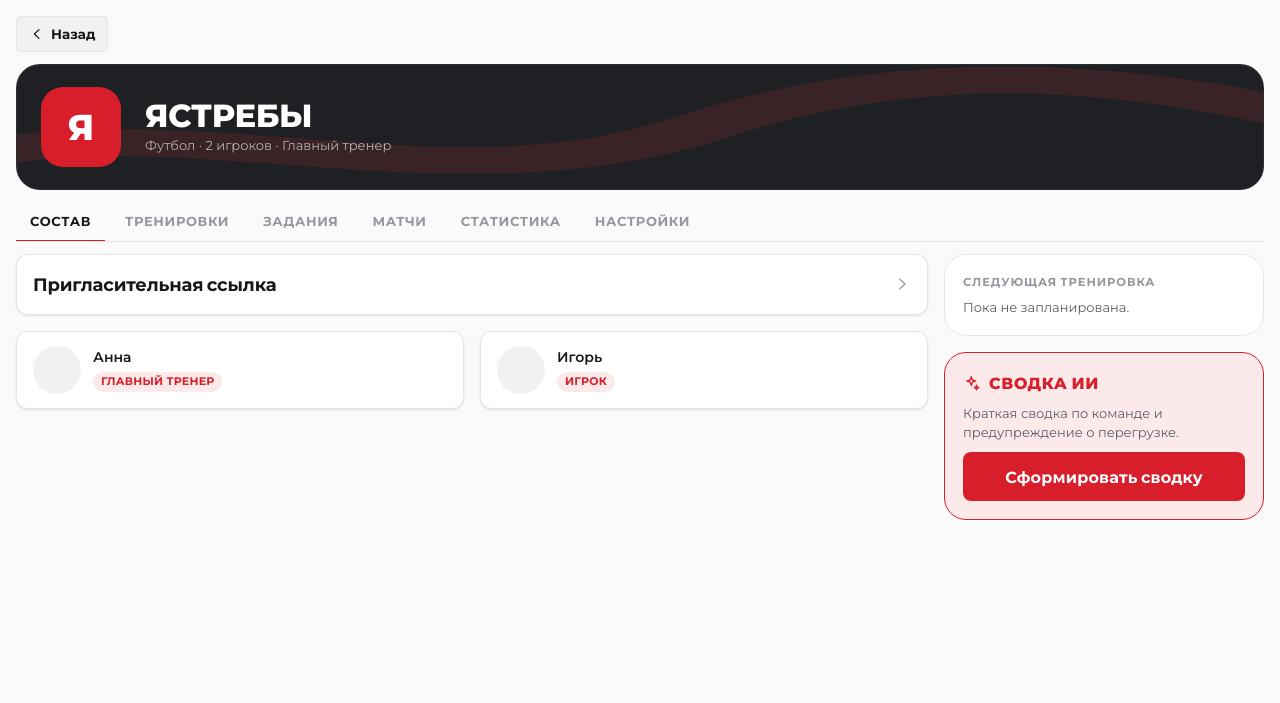
Test case: inviting players from the roster › generates a new link once expanded
Click the button "Пригласительная ссылка" at (155, 284), box [33,271,911,298]
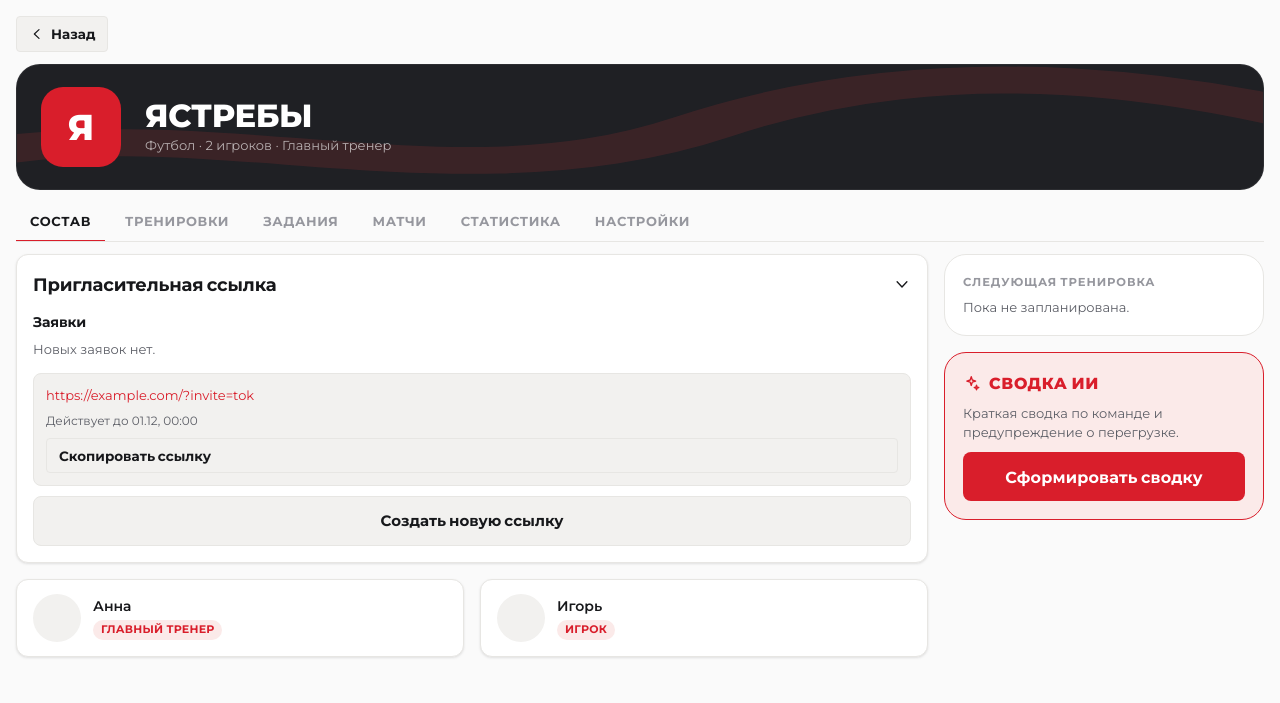
Click the button "Создать новую ссылку" at (472, 521), box [33,496,911,546]
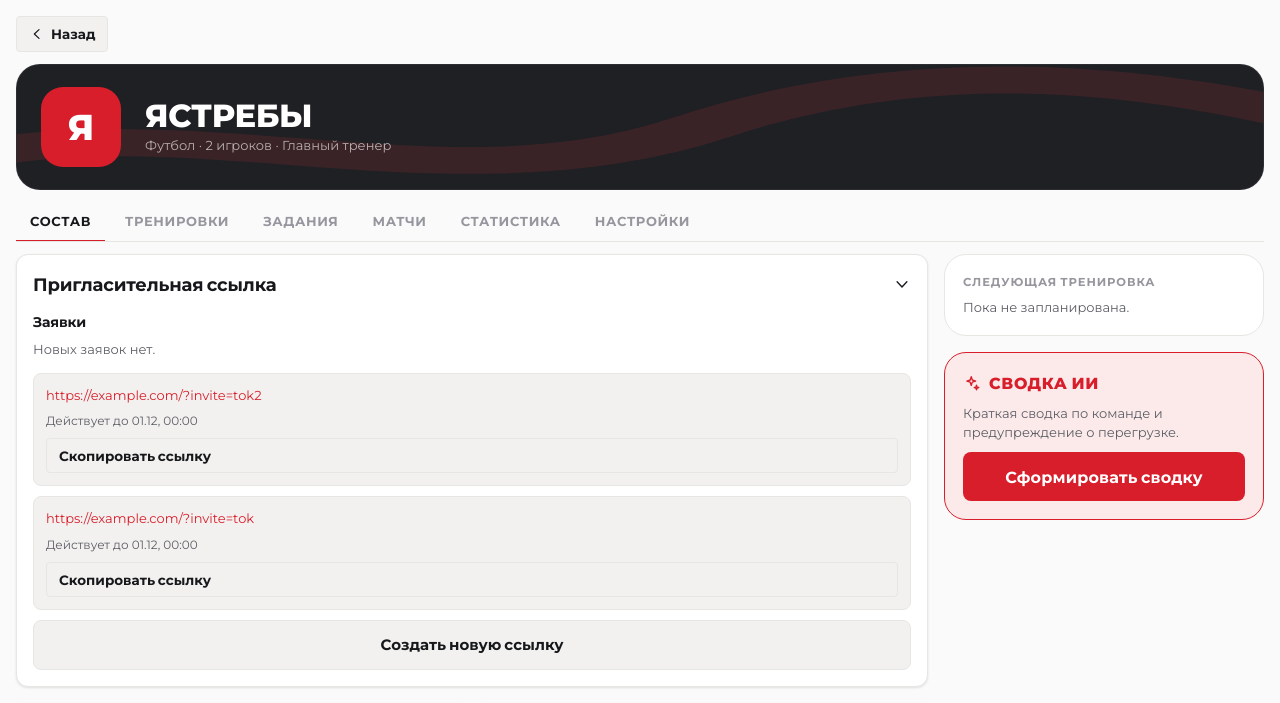
Result: the text "https://example.com/?invite=tok2" is shown at [46,387,262,403]
